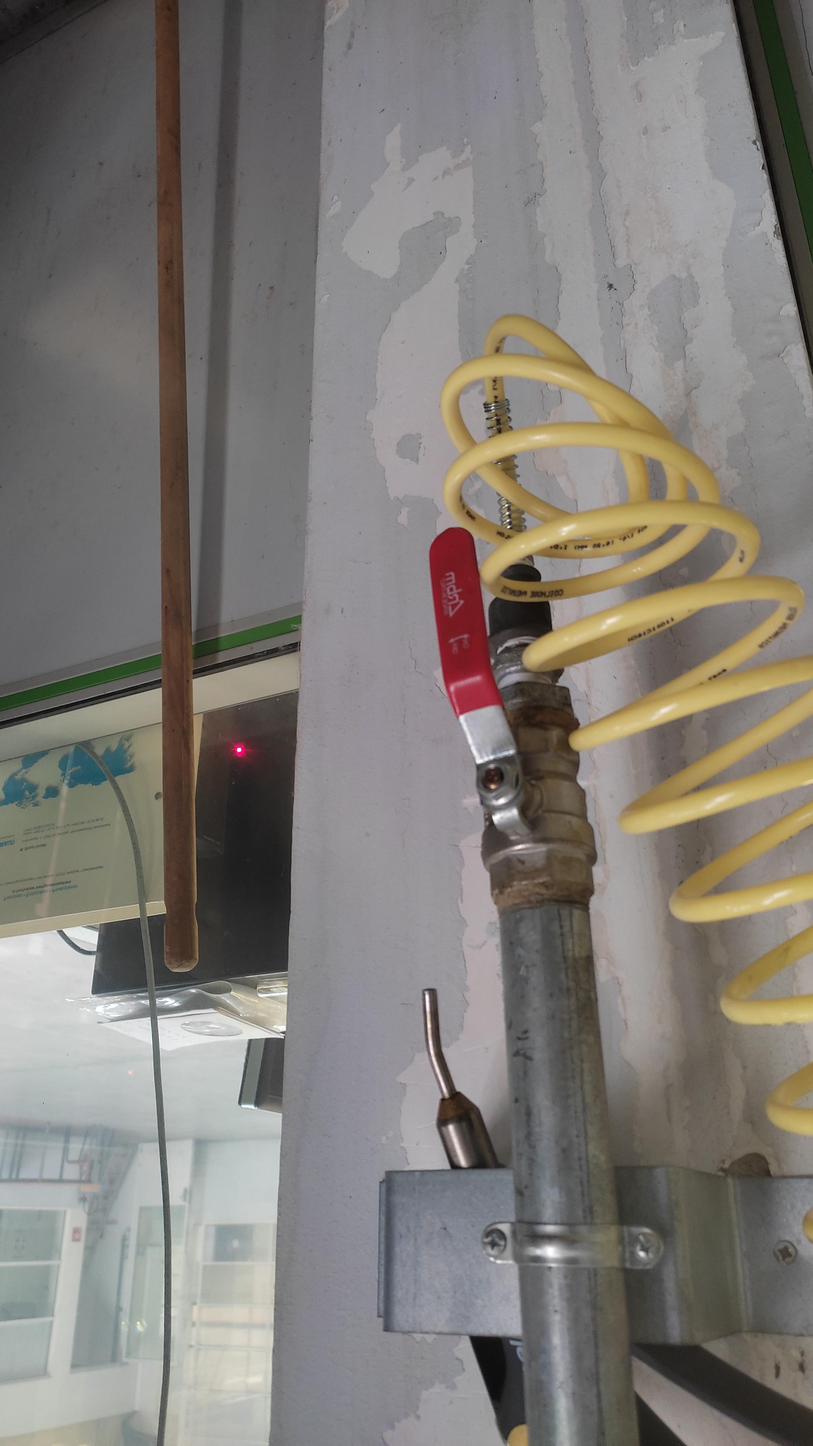opened valve: (420, 519, 609, 885)
